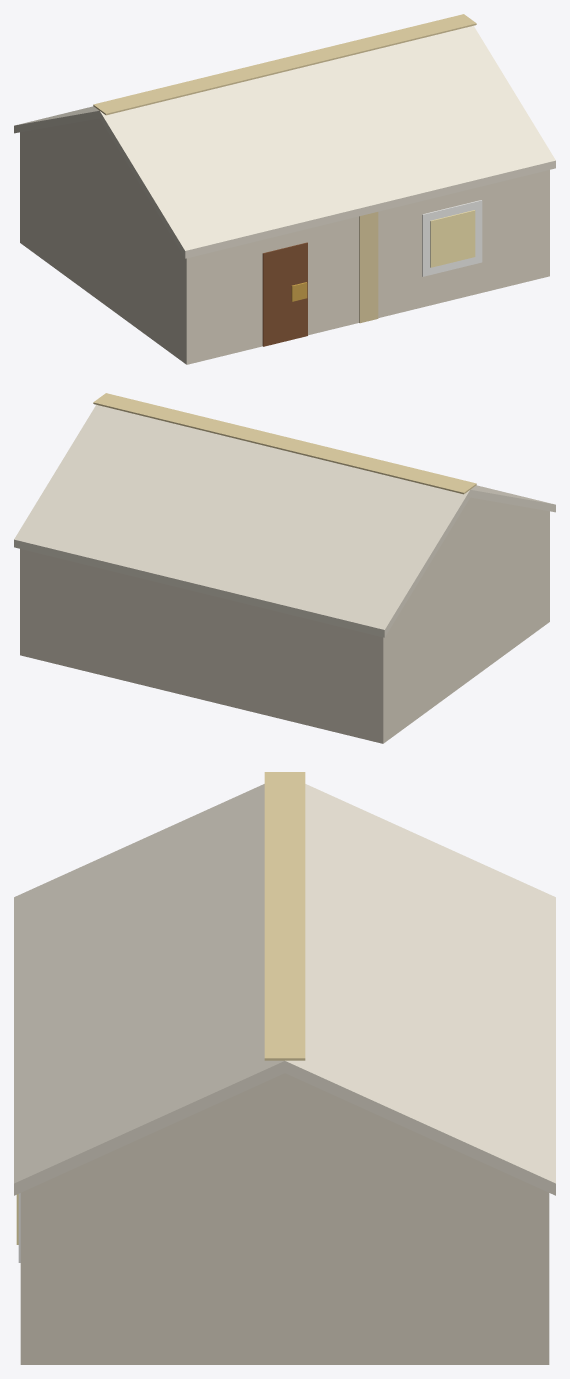
File: rental_penthouse.glb
The picture shows the model from 3 angles, top to bottom: view 1: azimuth 30°, elevation 25°; view 2: azimuth 150°, elevation 25°; view 3: azimuth 270°, elevation 25°; orthographic projection. The views are drawn at different scales.
Visible parts, largest first — view 1: rental_penthouse_Body; view 2: rental_penthouse_Body; view 3: rental_penthouse_Body.
Boxes of the visible parts, x1,y1,x2,y2 form: rental_penthouse_Body: (14, 14, 555, 364); rental_penthouse_Body: (14, 393, 555, 743); rental_penthouse_Body: (14, 772, 555, 1364).
Bounding box in the file's own units: 1 × 0.504 × 0.8.
